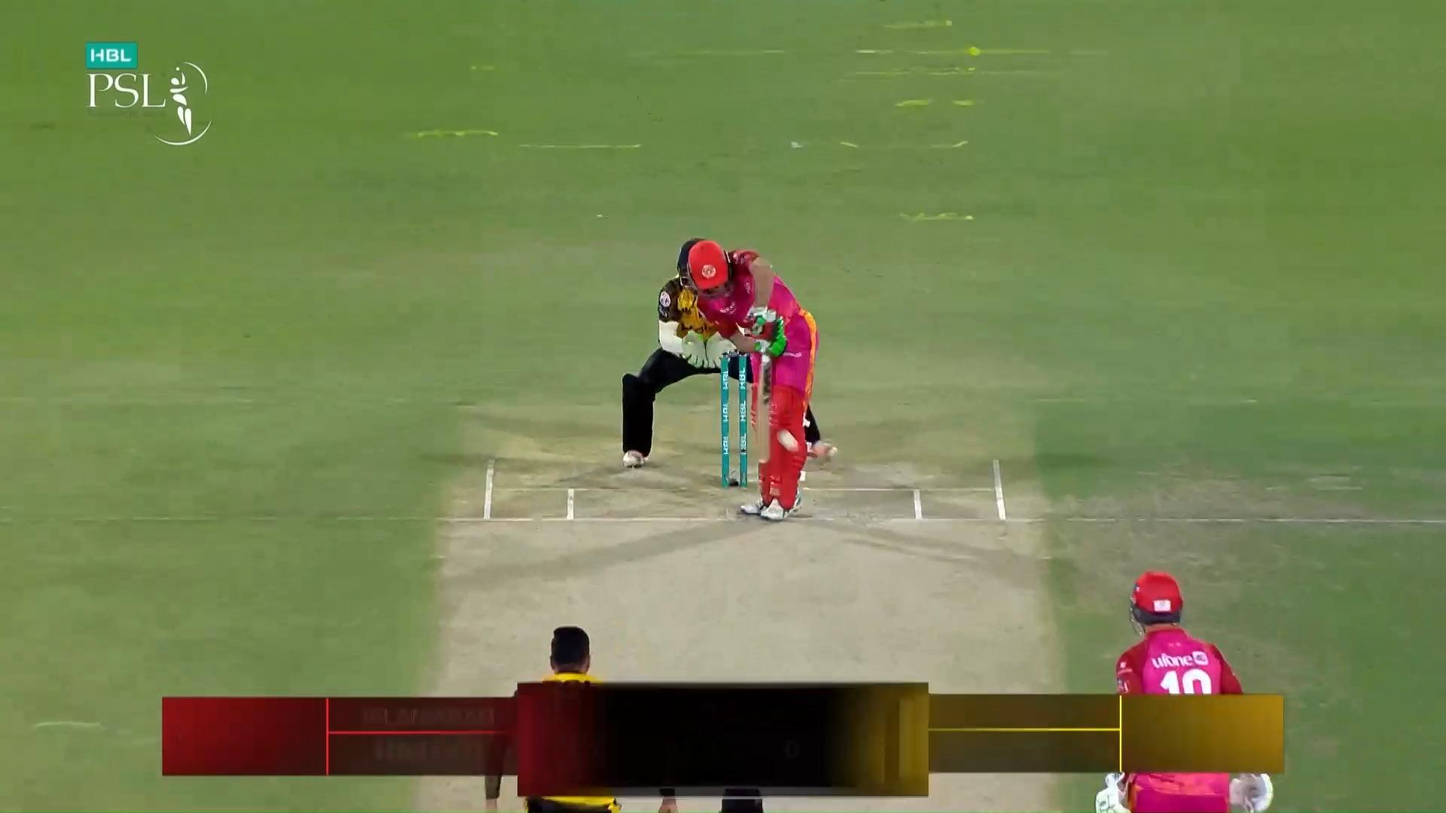batsman: (688, 240, 820, 522)
